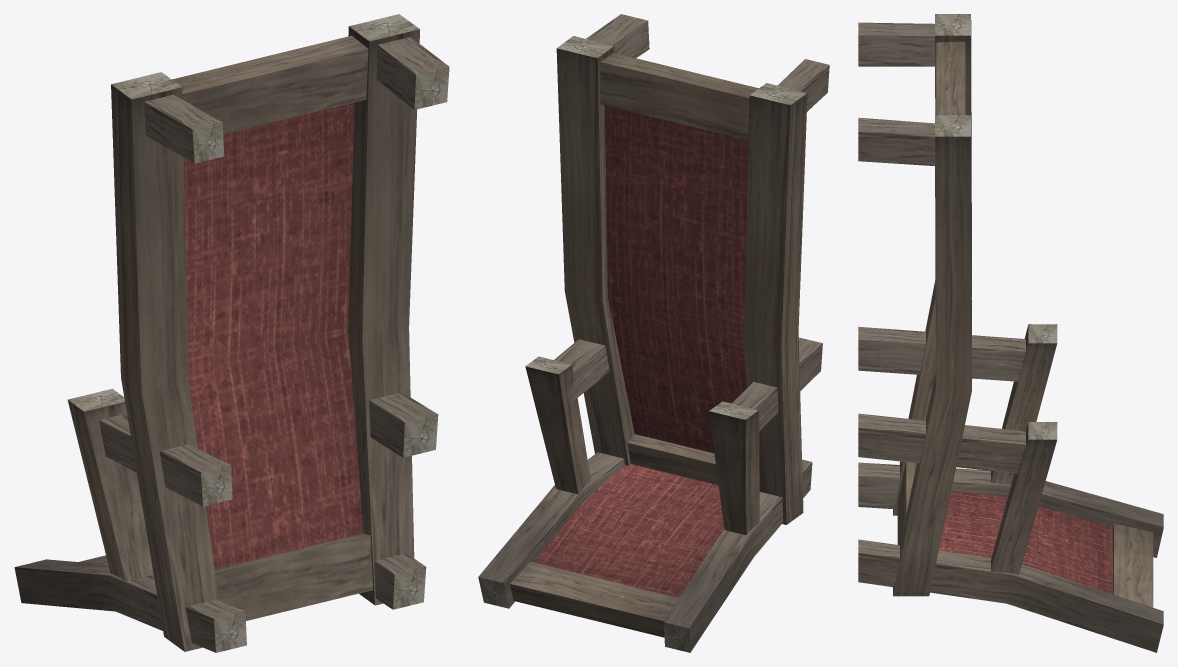
File: LongChair_Type_02_D.fbx
3 renders of one model, left to right at view 1: azimuth 30°, elevation 25°; view 2: azimuth 150°, elevation 25°; view 3: azimuth 270°, elevation 25°, orthographic. The views are drawn at different scales.
Visible parts, largest first — view 1: LongChair_Type_02_D; view 2: LongChair_Type_02_D; view 3: LongChair_Type_02_D.
Part boxes in pixels (left/top/right/bottom): LongChair_Type_02_D: left=14, top=14, right=449, bottom=652; LongChair_Type_02_D: left=478, top=14, right=829, bottom=652; LongChair_Type_02_D: left=858, top=14, right=1163, bottom=652.
Bounding box in the file's own units: 1.12 × 2.24 × 1.18.
